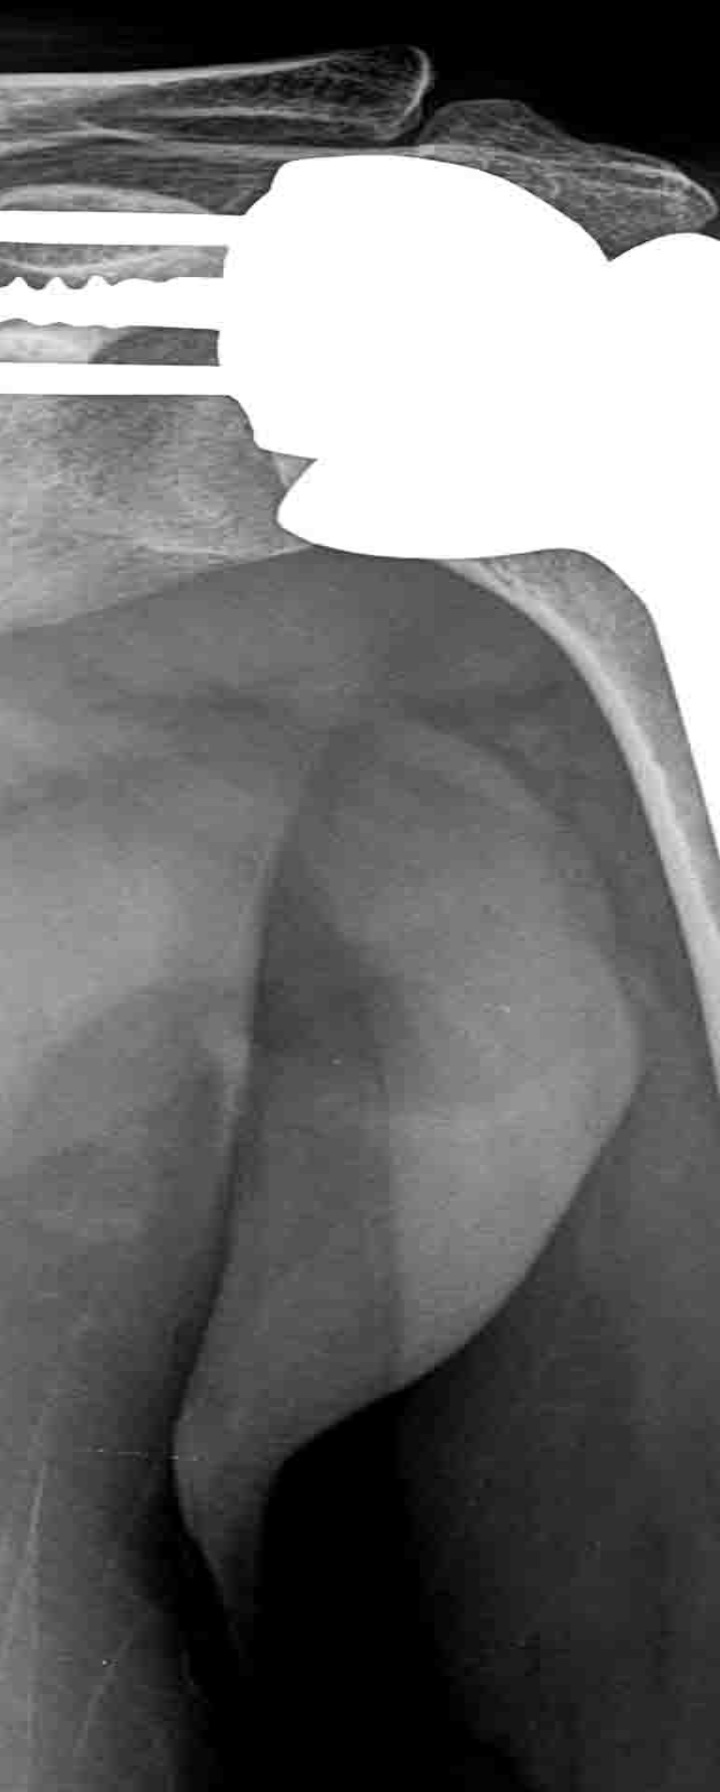Shoulder-Reverse-DJO: (1, 139, 719, 907)
